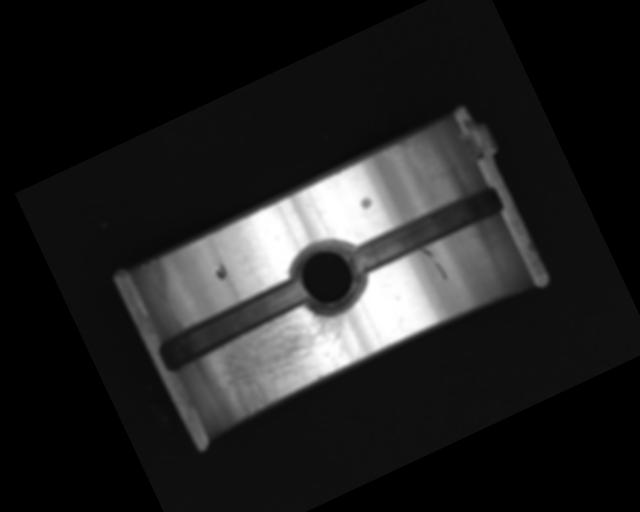blot: (213, 262, 229, 282)
bruise: (358, 194, 374, 211)
gap: (346, 180, 507, 279), (153, 274, 312, 373)
hole: (282, 229, 376, 326)
nick: (419, 241, 448, 284)
scratch: (202, 288, 368, 422)
